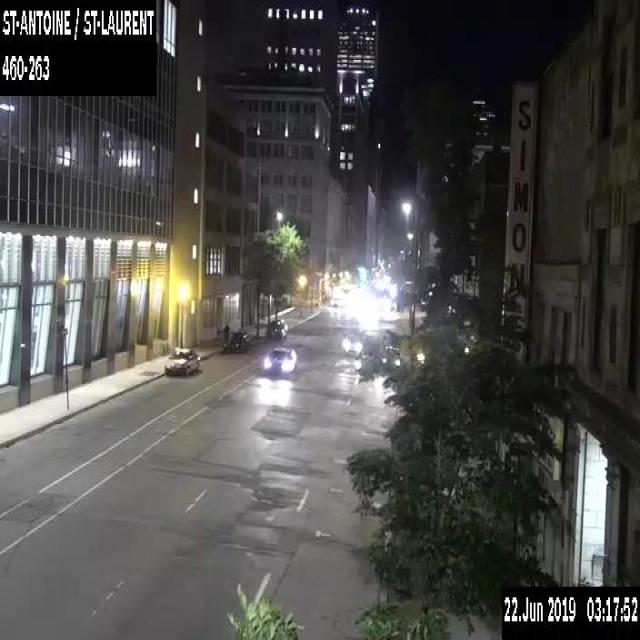pedestrian: (223, 320, 229, 340)
vehicle: (164, 345, 199, 376), (263, 345, 296, 374), (223, 329, 249, 353), (340, 331, 364, 357), (265, 318, 288, 342), (382, 343, 400, 369)
